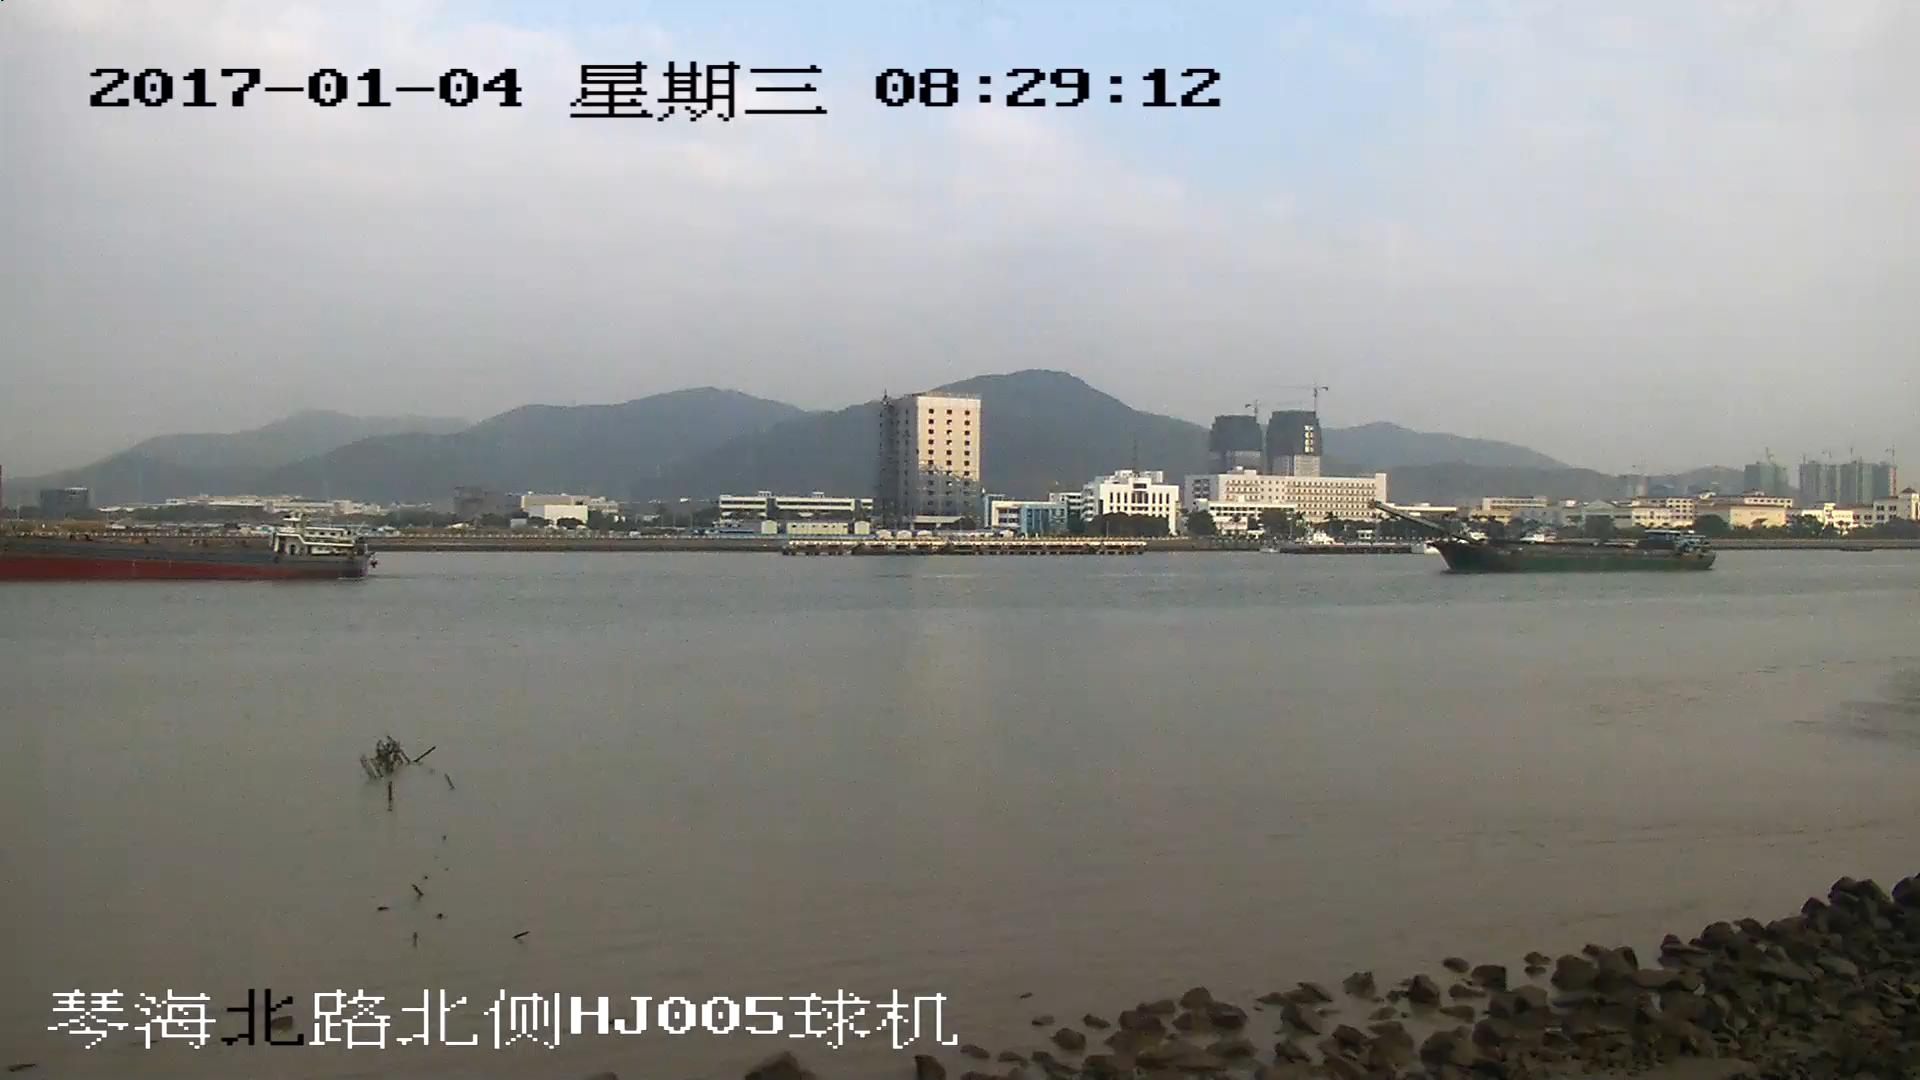bulk cargo carrier: (1377, 500, 1714, 577), (1, 527, 372, 578)
